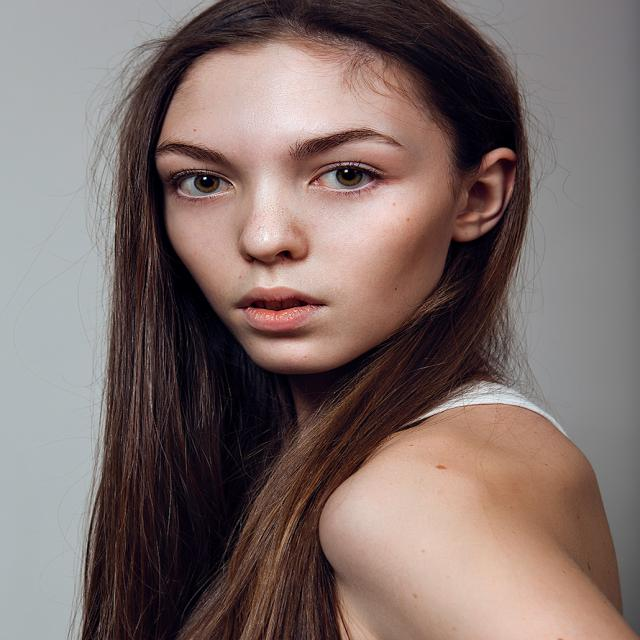earlobe: (451, 210, 484, 244)
eye: (308, 164, 384, 192), (172, 173, 236, 200)
nose: (241, 251, 302, 281)
wholeear: (451, 147, 518, 244)
